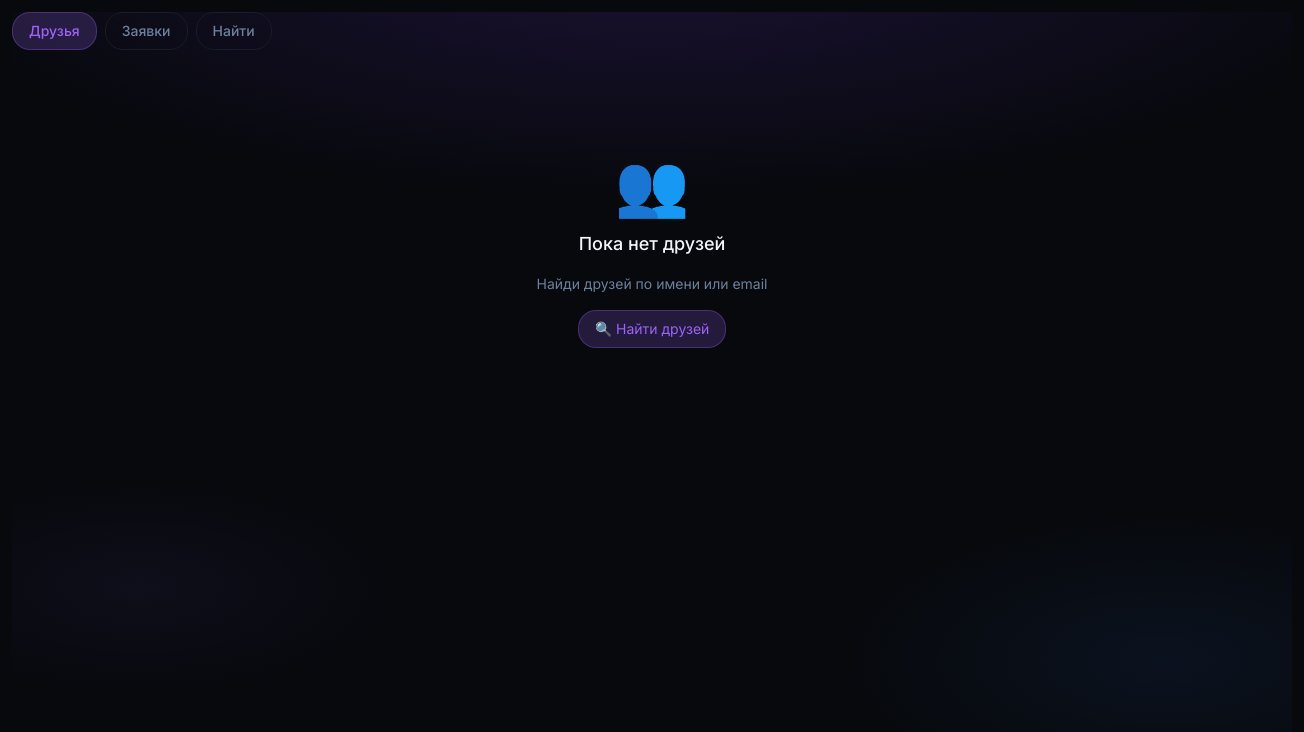
Test: heavy client components › renders empty friends state
Check: the text "Пока нет друзей" is shown, box [579,233,725,254]
Click the button "Найти" at (234, 31), box [196,12,272,50]
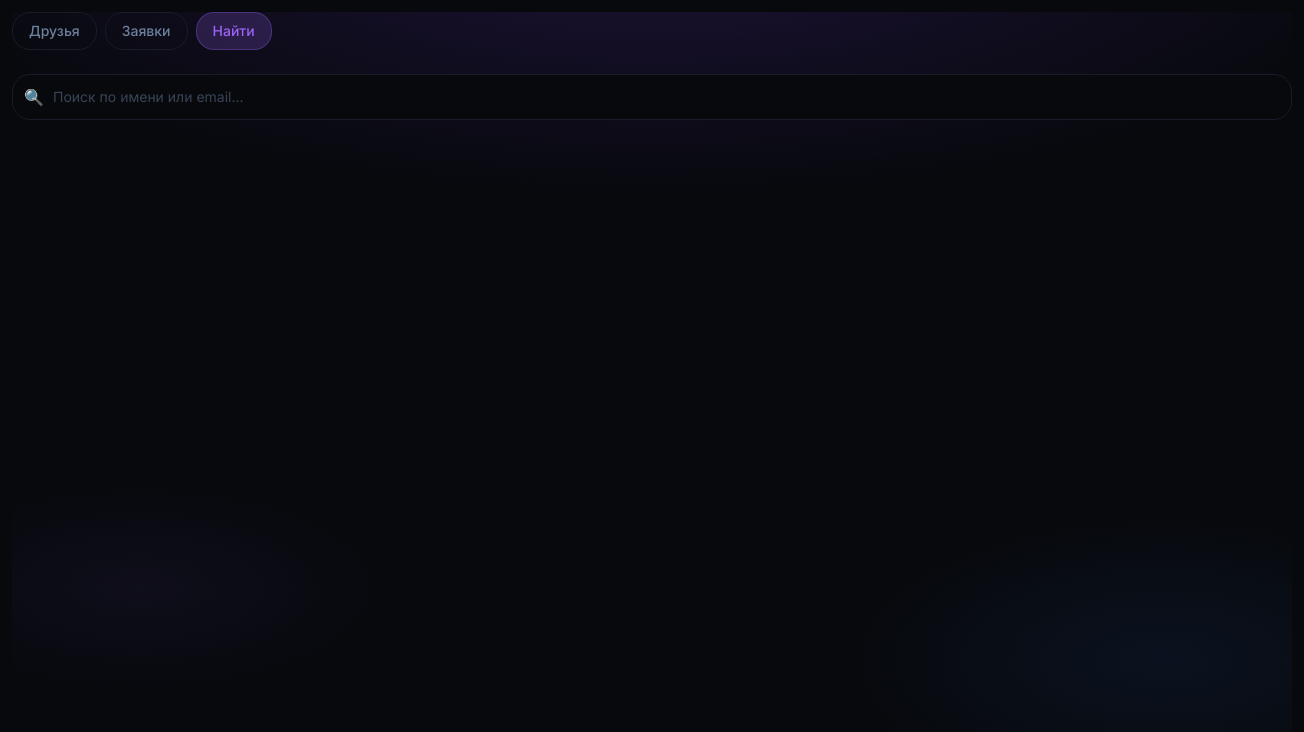
Check: the field with placeholder "Поиск по имени или email..." is shown, box [12,74,1292,120]
